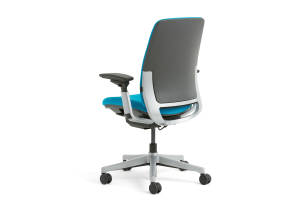chairs: (93, 16, 216, 198)
